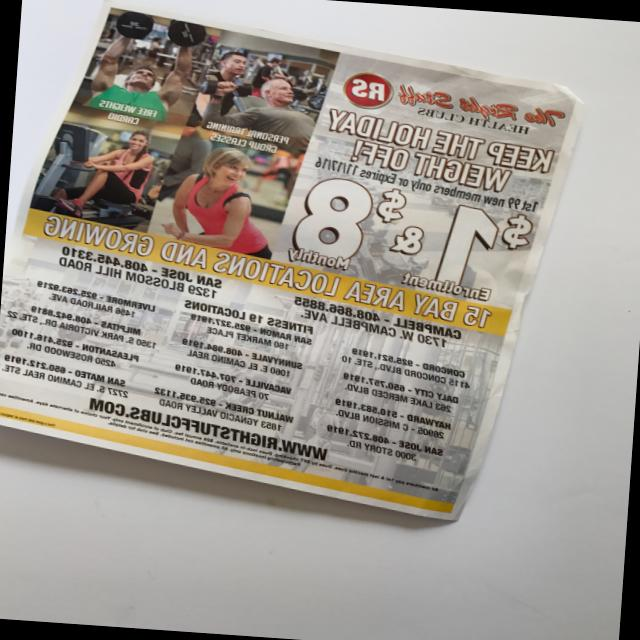Paper: (0, 0, 591, 566)
